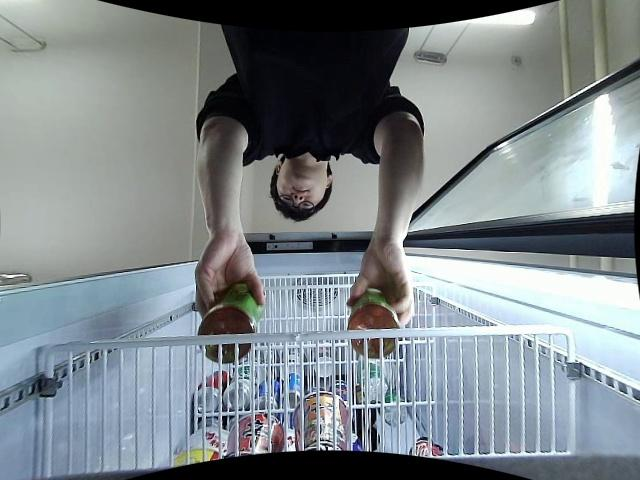00_hand: (194, 233, 266, 323), (349, 242, 415, 328)
19_17cha: (193, 288, 261, 361), (345, 290, 401, 360)
